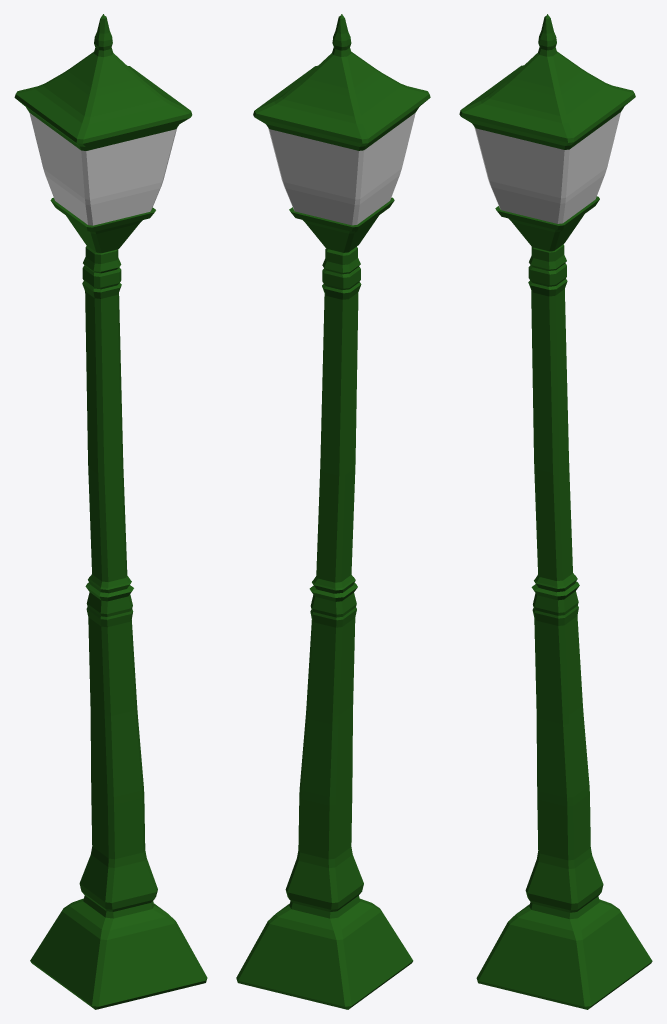
File: JamiValo.fbx
3 views of the same model, side by side, from view 1: azimuth 30°, elevation 25°; view 2: azimuth 150°, elevation 25°; view 3: azimuth 330°, elevation 25° (orthographic).
Parts seen in each view (by area): view 1: Tolppa, Yläosa, Valo; view 2: Tolppa, Yläosa, Valo; view 3: Tolppa, Yläosa, Valo.
Boxes of the visible parts, <box> form: Tolppa: <box>30,246,207,1009</box>; Yläosa: <box>14,14,192,253</box>; Valo: <box>29,113,176,225</box>; Tolppa: <box>236,246,413,1009</box>; Yläosa: <box>253,14,430,252</box>; Valo: <box>268,113,415,225</box>; Tolppa: <box>476,244,652,1009</box>; Yläosa: <box>459,14,635,251</box>; Valo: <box>474,112,620,223</box>.
Size of the model in its own units: 165 by 1152 by 146.
